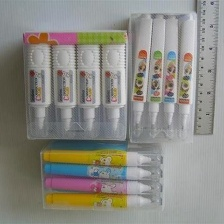correction_fluid: (73, 31, 104, 140), (50, 32, 80, 140), (129, 13, 155, 137), (23, 30, 52, 139), (100, 30, 127, 140), (145, 13, 168, 138), (175, 12, 197, 142), (42, 173, 164, 196), (160, 15, 181, 139), (42, 160, 163, 181), (40, 148, 163, 167), (43, 191, 164, 210), (46, 140, 162, 154)
plastic_box: (20, 27, 130, 143), (37, 138, 167, 214)
